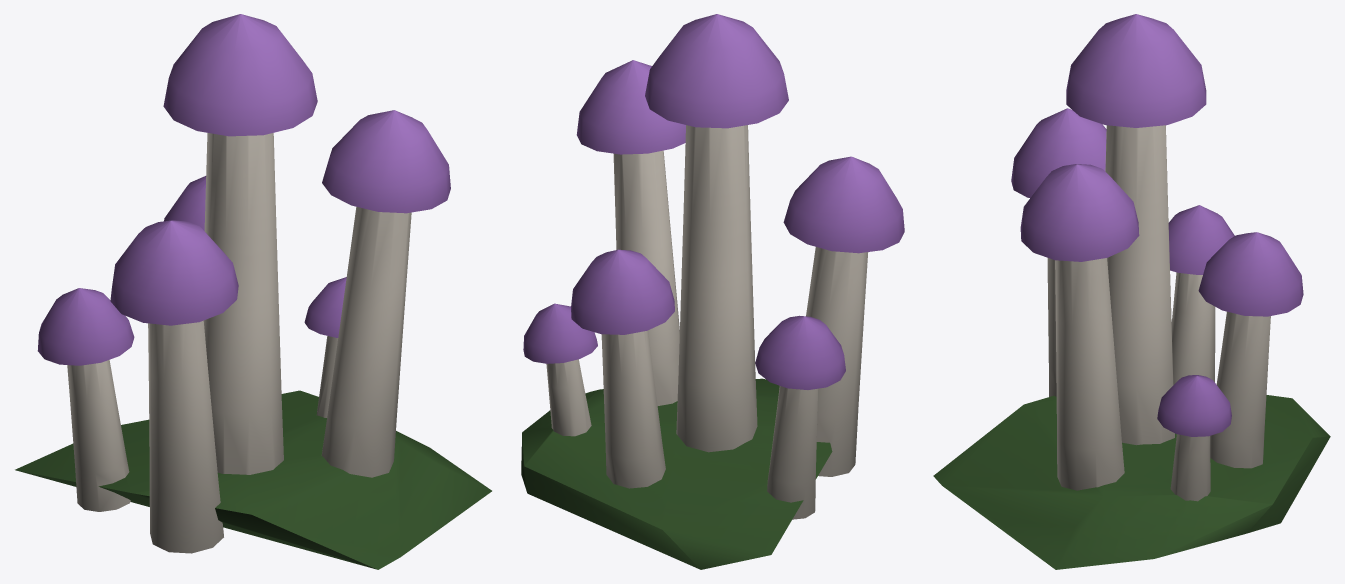
The model's file is mushrooms_violet.glb.
The picture shows the model from 3 angles, left to right: view 1: azimuth 30°, elevation 25°; view 2: azimuth 150°, elevation 25°; view 3: azimuth 270°, elevation 25°; orthographic projection. The views are drawn at different scales.
Parts seen in each view (by area): view 1: Item; view 2: Item; view 3: Item.
Boxes of the visible parts, box(x1,y1,x2,y2) form: Item: box(15, 14, 491, 569); Item: box(521, 14, 904, 569); Item: box(933, 14, 1330, 569).
Bounding box in the file's own units: 0.9091 × 1.16 × 0.9033.
Materials: 3 (3 with a texture image).
